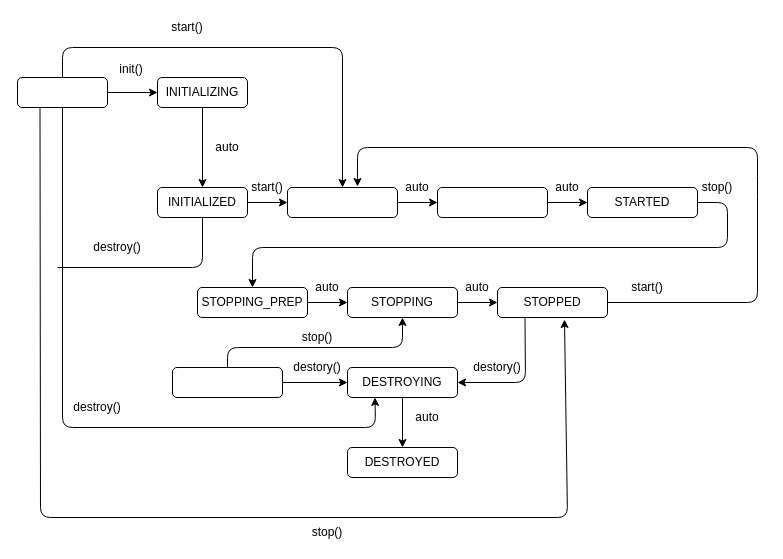
Some shapes in this 783 by 559 pixel diagram are drawn without their labels. Each missing label, with the centre of its shape:
"FAILED" goes at pixel 227 382.
"NEW" goes at pixel 62 92.
"START-ING_PREP" goes at pixel 342 202.
"STARTING" goes at pixel 492 202.
